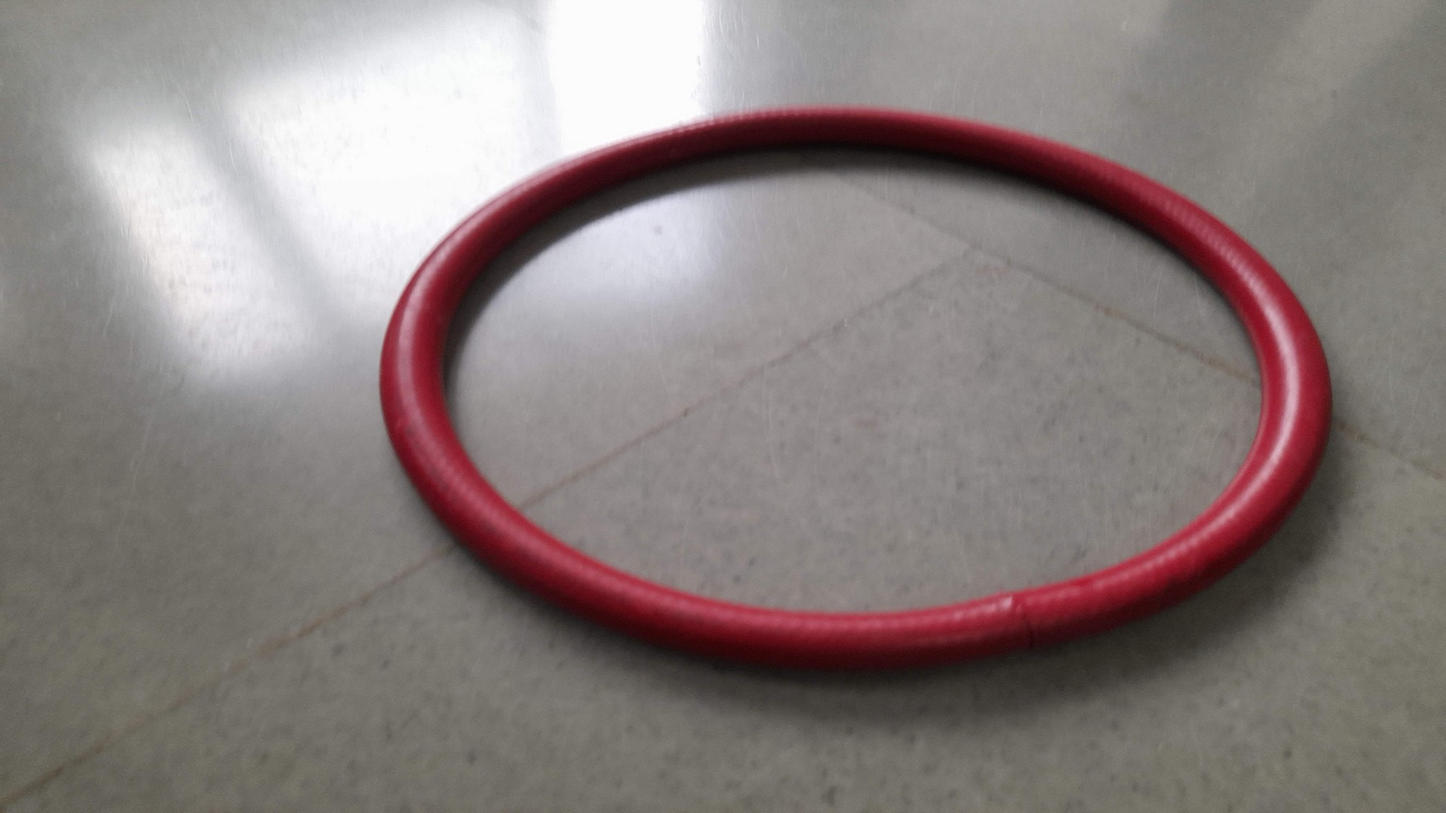Red ring: (378, 107, 1332, 665)
